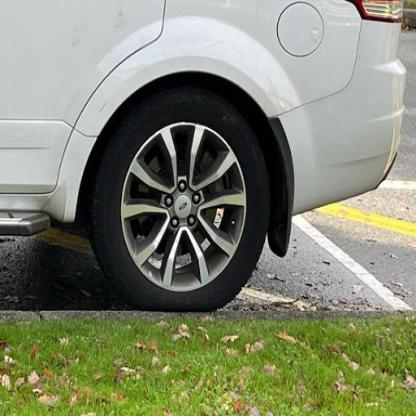Tire: (86, 84, 270, 313)
